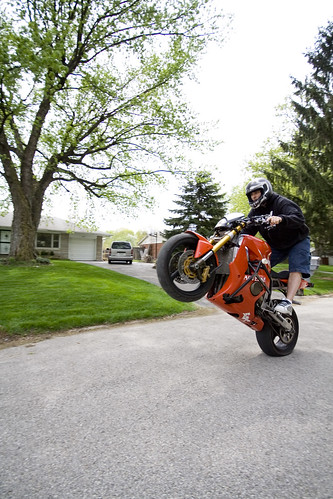helmet: (239, 169, 271, 207)
